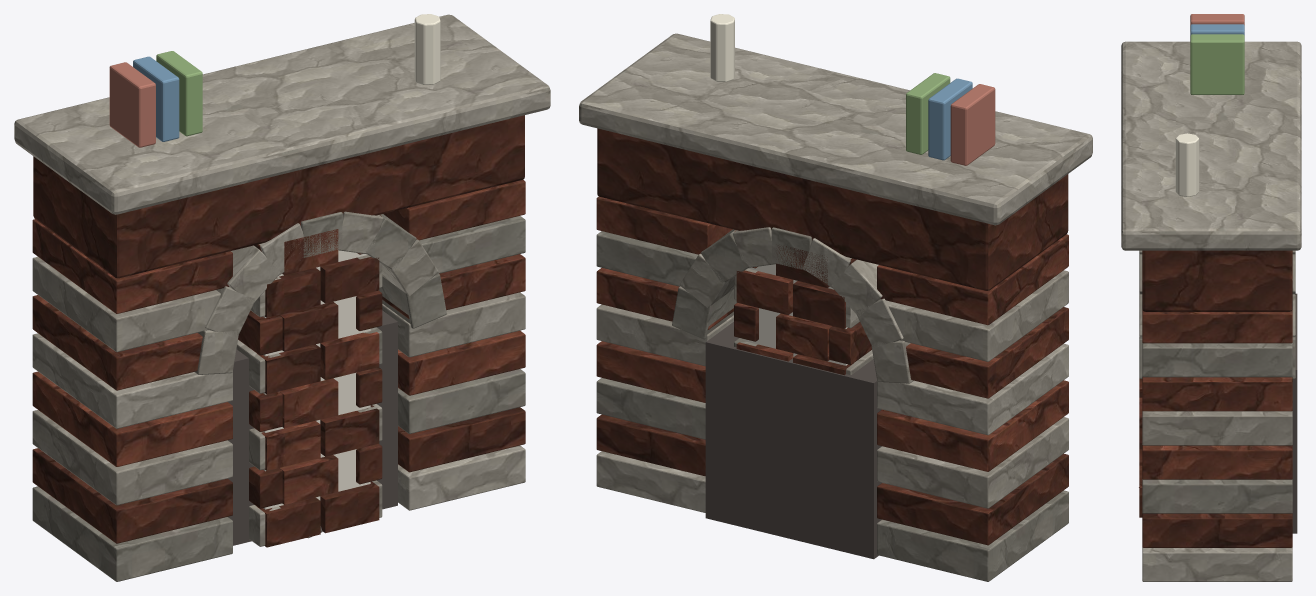
Rendered from hearth_fireplace.glb.
3 views of the same model, side by side, from view 1: azimuth 30°, elevation 25°; view 2: azimuth 150°, elevation 25°; view 3: azimuth 270°, elevation 25° (orthographic). The views are drawn at different scales.
Visible parts, largest first — view 1: model; view 2: model; view 3: model.
Boxes of the visible parts, x1,y1,x2,y2 form: model: (14,14,550,581); model: (579,14,1092,581); model: (1121,14,1301,581).
Size of the model in its own units: 1.5 by 1.53 by 0.6.
Materials: 18 (6 with a texture image).
